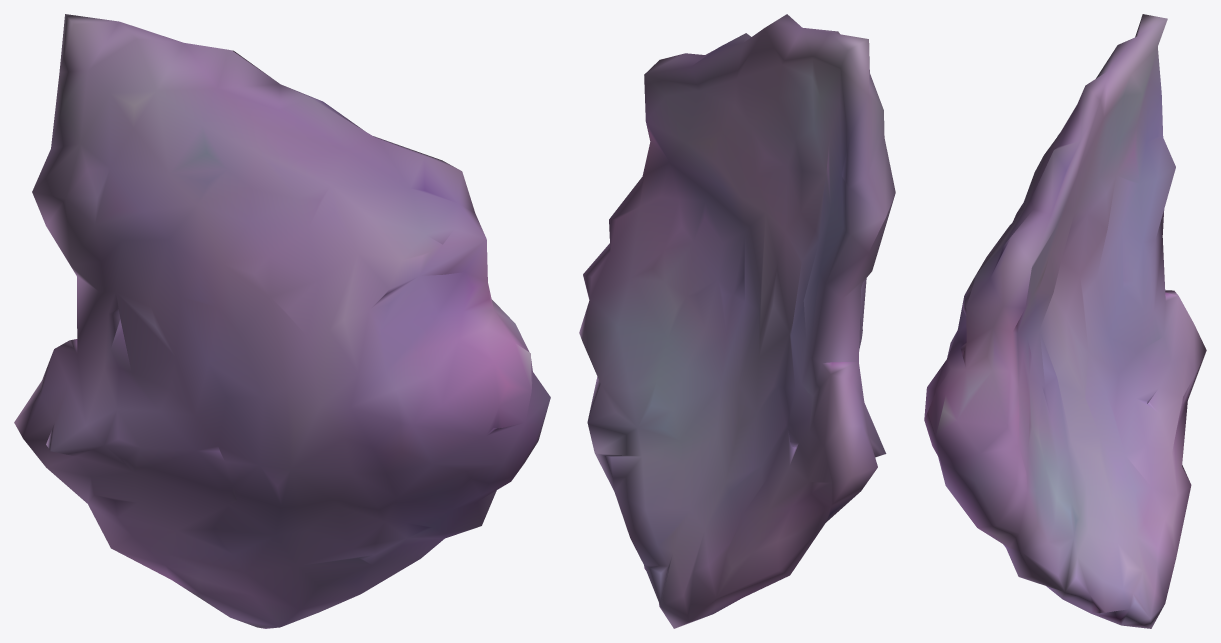
The model's file is fragmento_si.glb.
3 renders of one model, left to right at view 1: azimuth 30°, elevation 25°; view 2: azimuth 150°, elevation 25°; view 3: azimuth 270°, elevation 25°, orthographic. The views are drawn at different scales.
Size of the model in its own units: 0.6606 by 1.02 by 0.4867.
